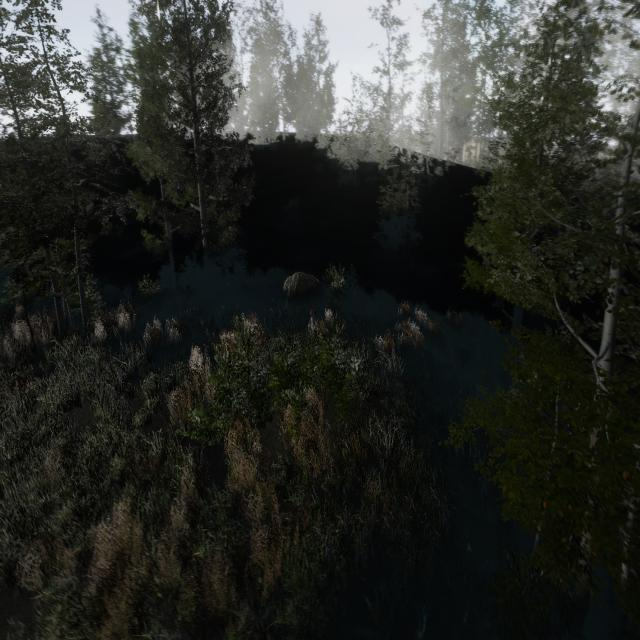Human: (304, 310, 321, 341)
